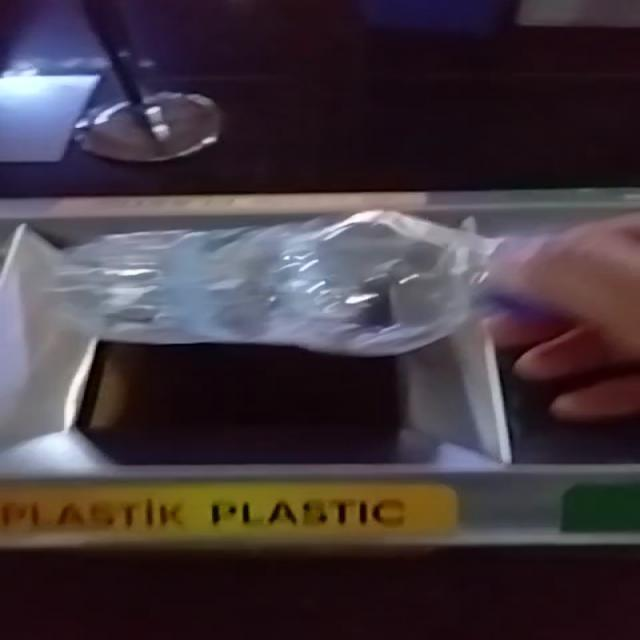Plastic: (57, 211, 499, 356)
